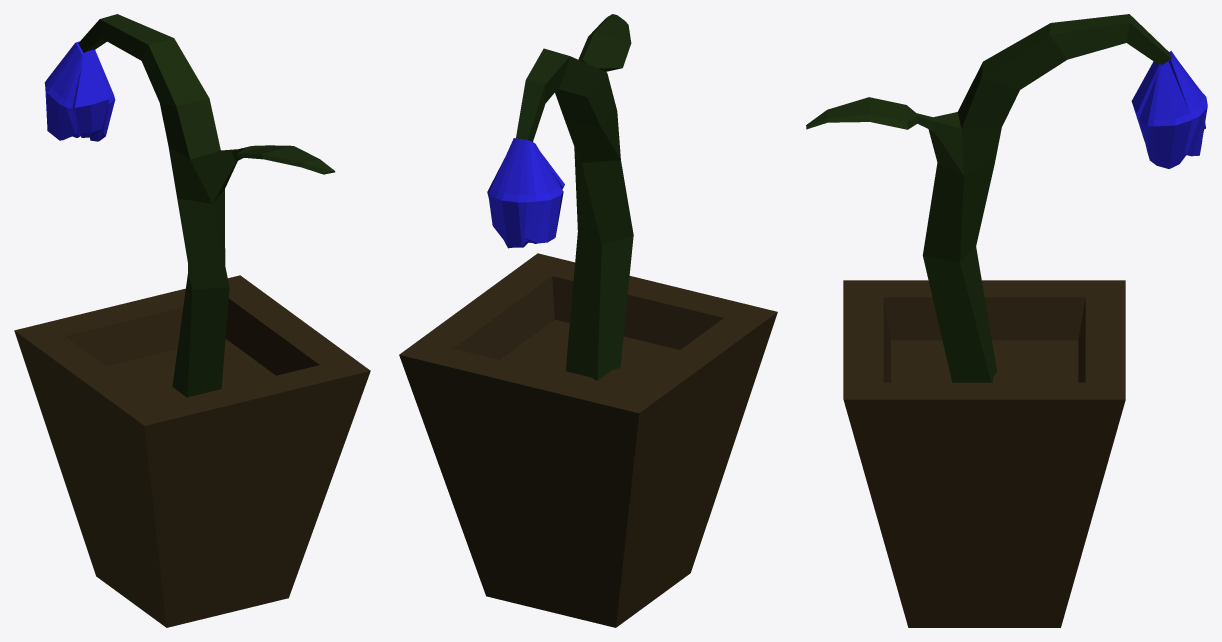
Rendered from flower.fbx.
3 renders of one model, left to right at view 1: azimuth 30°, elevation 25°; view 2: azimuth 150°, elevation 25°; view 3: azimuth 270°, elevation 25°, orthographic. The views are drawn at different scales.
Visible parts, largest first — view 1: vase, stem, flower, petal; view 2: vase, stem, flower; view 3: vase, stem, flower, petal.
Part boxes in pixels (x1,y1,x2,y2): vase: (14,275,370,627); stem: (78,14,335,397); flower: (44,41,115,141); petal: (72,50,109,137); vase: (399,253,777,627); stem: (516,14,633,380); flower: (487,138,563,248); vase: (843,280,1125,627); stem: (806,14,1170,382); flower: (1139,51,1207,168); petal: (1131,61,1160,141).
Size of the model in its own units: 200 by 445 by 285.
